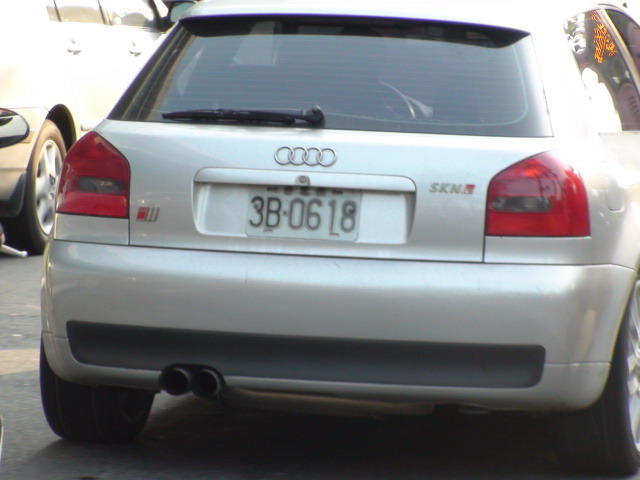plate: (247, 185, 362, 244)
